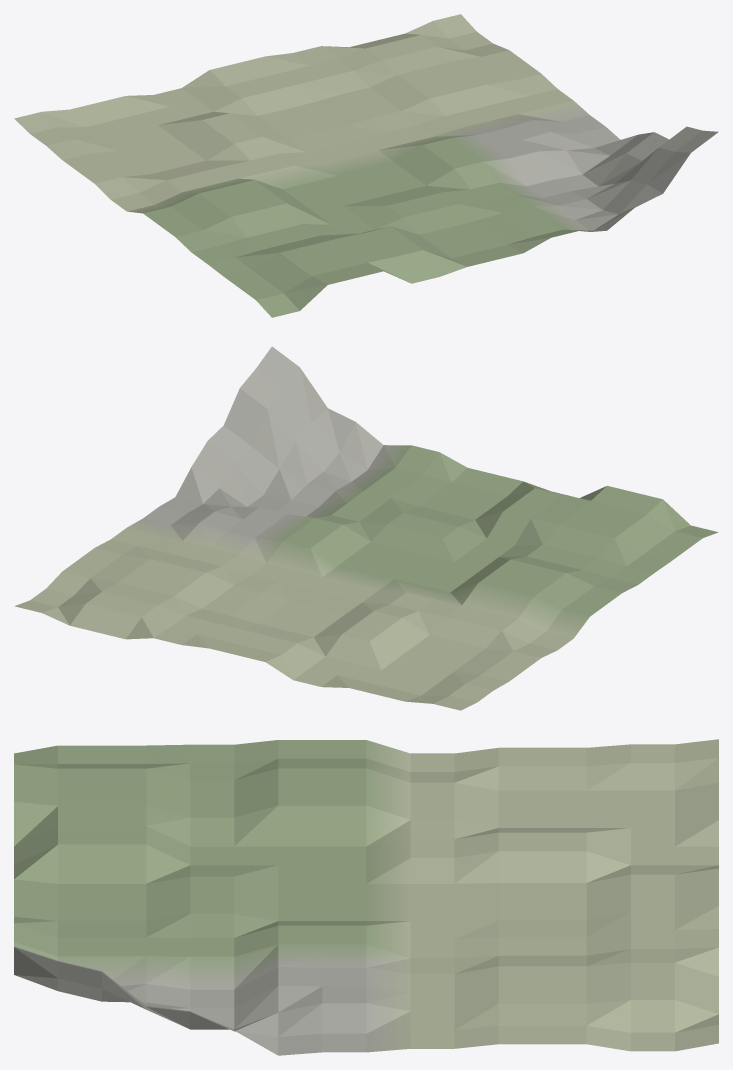
3 views of the same model, one above another, from view 1: azimuth 30°, elevation 25°; view 2: azimuth 150°, elevation 25°; view 3: azimuth 270°, elevation 25° (orthographic). The views are drawn at different scales.
Bounding box in the file's own units: 32 × 6.03 × 32.
